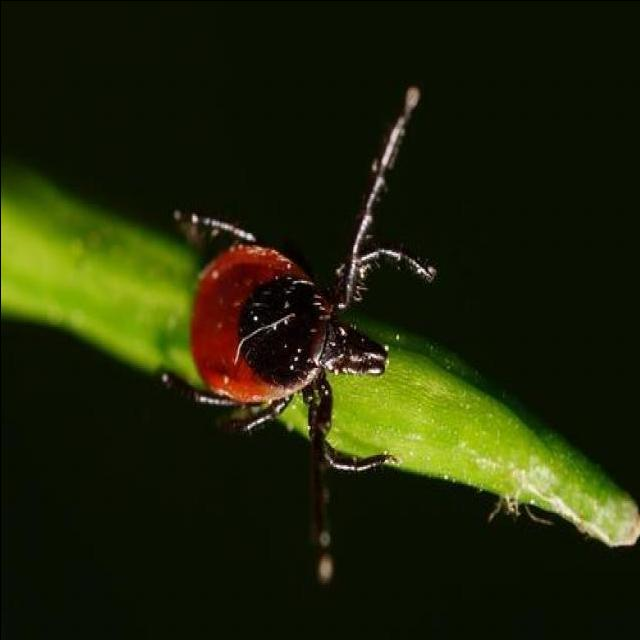Ixodes Ricinus-F: (160, 80, 439, 582)
